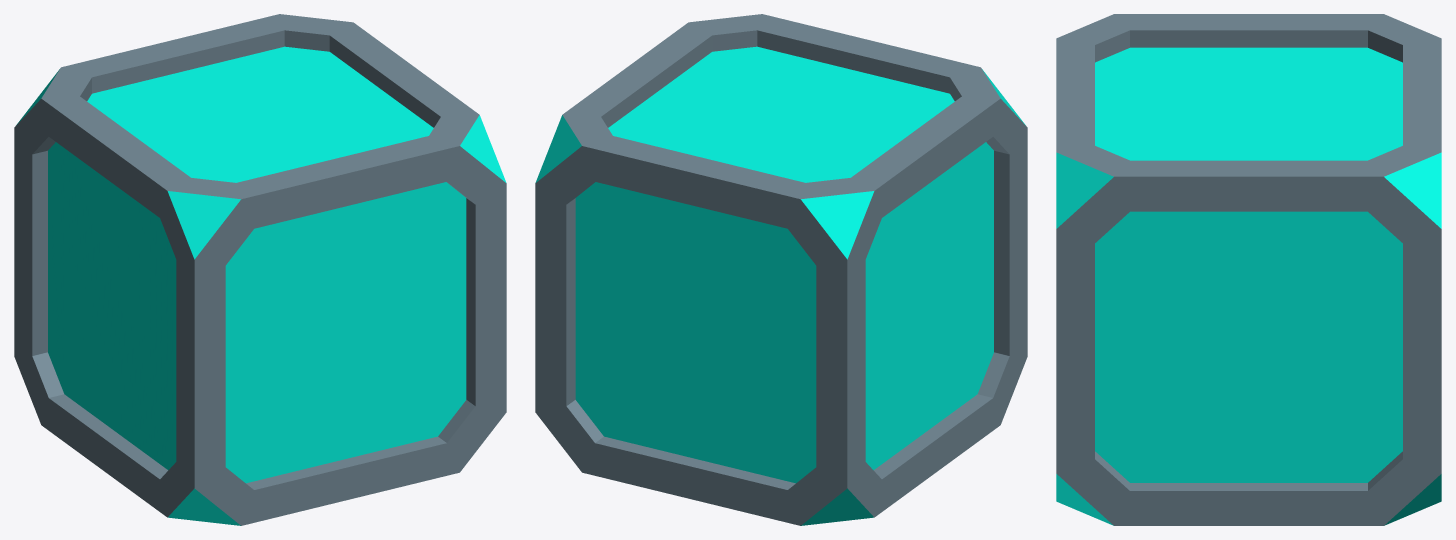
3 views of the same model, side by side, from view 1: azimuth 30°, elevation 25°; view 2: azimuth 150°, elevation 25°; view 3: azimuth 270°, elevation 25° (orthographic). The views are drawn at different scales.
Parts seen in each view (by area): view 1: box-d-01; view 2: box-d-01; view 3: box-d-01.
Part boxes in pixels (x1,y1,x2,y2): box-d-01: (14,14,506,525); box-d-01: (535,14,1027,525); box-d-01: (1056,14,1441,525).
Size of the model in its own units: 100 by 100 by 100.
